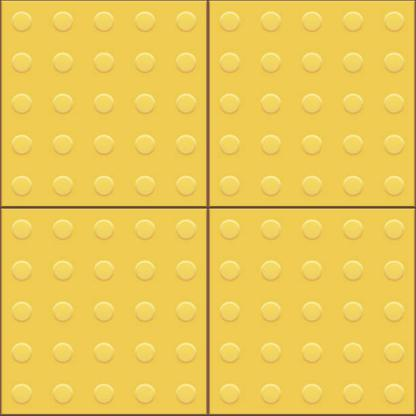podotacti: (2, 3, 414, 412)
